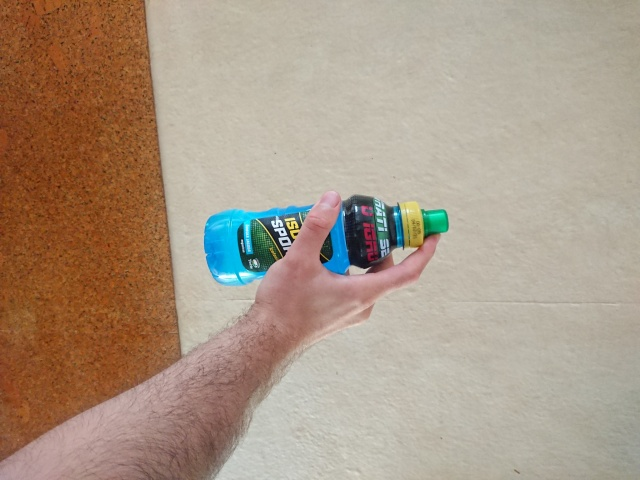Vindi Iso Sport Forest Strawberries 500mL: (202, 192, 451, 287)
